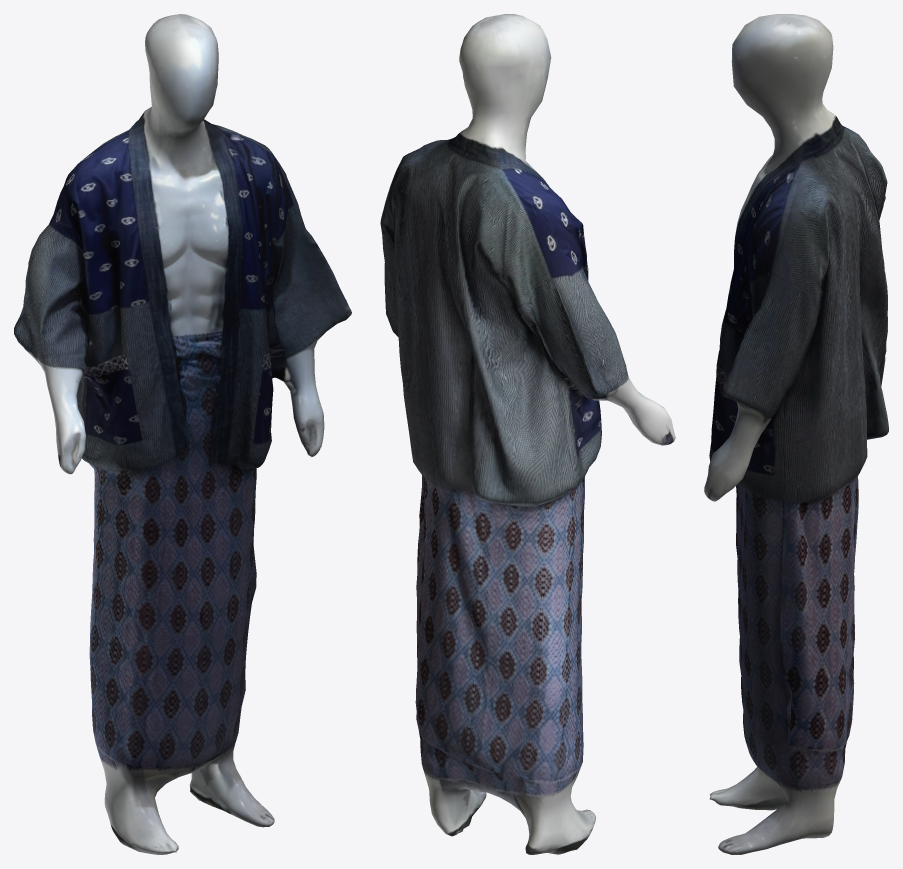
The model's file is Meeta_Fauzan_Difabel_Quais_Josmela.glb.
3 views of the same model, side by side, from view 1: azimuth 30°, elevation 25°; view 2: azimuth 150°, elevation 25°; view 3: azimuth 270°, elevation 25° (orthographic). The views are drawn at different scales.
Parts seen in each view (by area): view 1: Josmela - Ver AR; view 2: Josmela - Ver AR; view 3: Josmela - Ver AR.
Boxes of the visible parts, x1,y1,x2,y2 form: Josmela - Ver AR: (14, 14, 351, 854); Josmela - Ver AR: (380, 14, 675, 854); Josmela - Ver AR: (704, 14, 888, 854).
Size of the model in its own units: 0.3686 by 0.9976 by 0.2039.
1 material, 1 textured.
